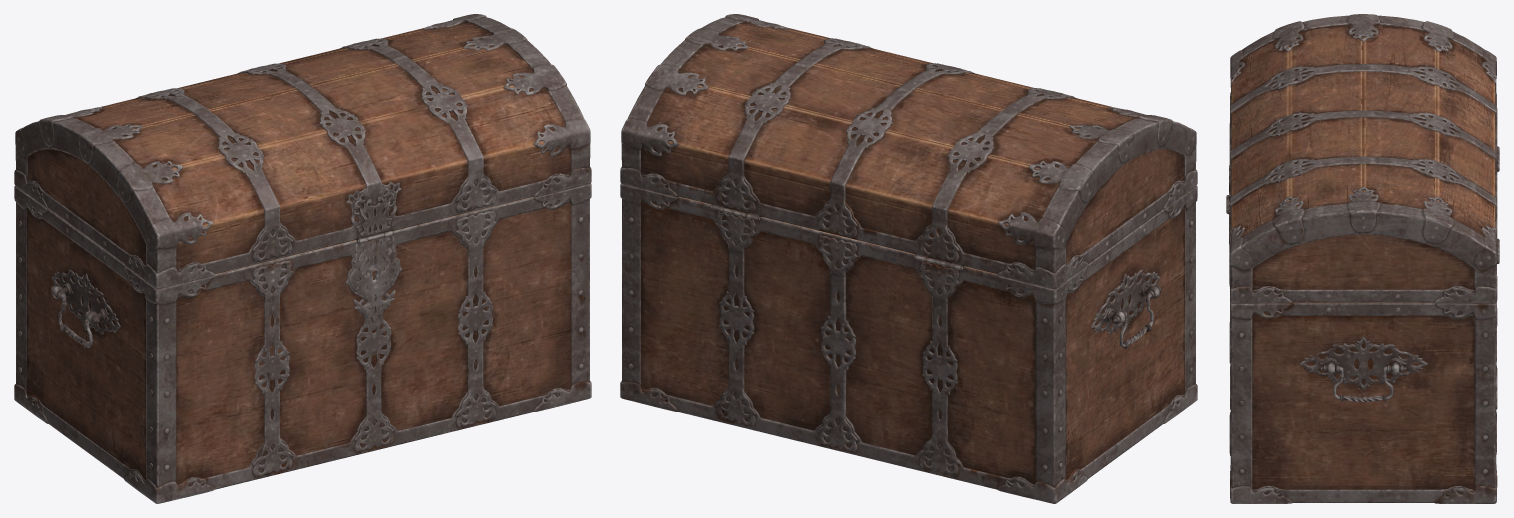
Rendered from treasure_chest.glb.
3 renders of one model, left to right at view 1: azimuth 30°, elevation 25°; view 2: azimuth 150°, elevation 25°; view 3: azimuth 270°, elevation 25°, orthographic. The views are drawn at different scales.
Parts seen in each view (by area): view 1: treasure_chest_bottom, treasure_chest_lid, treasure_chest_lock; view 2: treasure_chest_bottom, treasure_chest_lid; view 3: treasure_chest_lid, treasure_chest_bottom, treasure_chest_handle_right.
Part boxes in pixels (left/top/right/bottom): treasure_chest_bottom: left=14, top=183, right=591, bottom=503; treasure_chest_lid: left=14, top=14, right=591, bottom=288; treasure_chest_lock: left=349, top=233, right=399, bottom=322; treasure_chest_bottom: left=620, top=183, right=1197, bottom=503; treasure_chest_lid: left=620, top=14, right=1197, bottom=288; treasure_chest_lid: left=1226, top=14, right=1499, bottom=303; treasure_chest_bottom: left=1229, top=152, right=1499, bottom=503; treasure_chest_handle_right: left=1320, top=365, right=1406, bottom=402.
Size of the model in its own units: 0.959 by 0.619 by 0.5229.
Materials: 1 (1 with a texture image).
